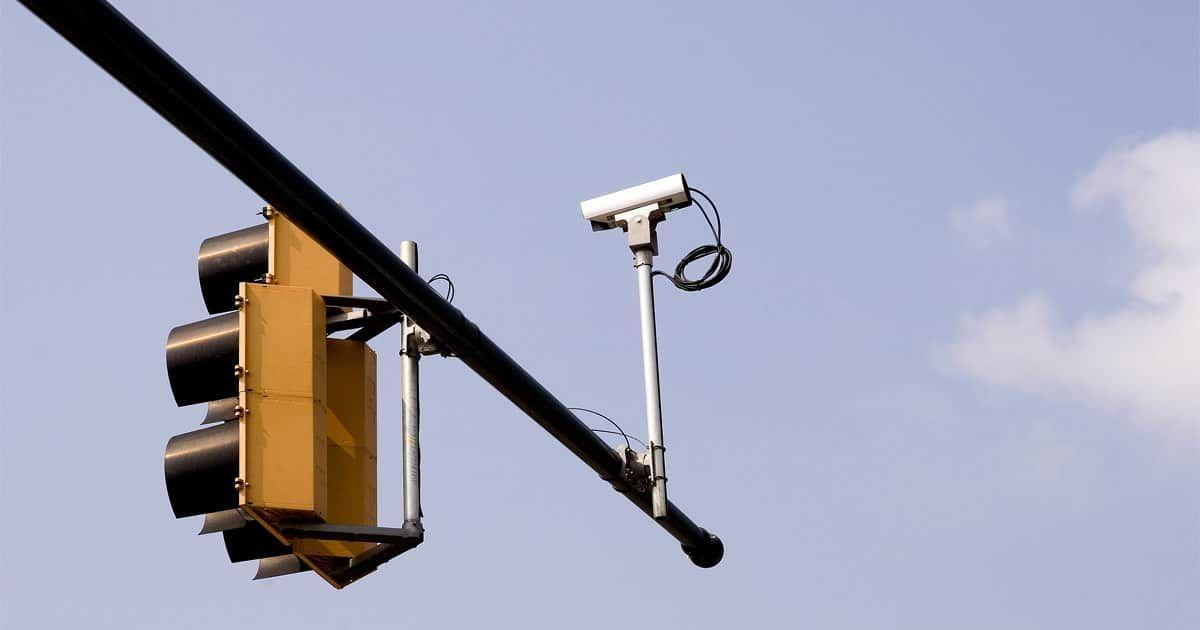Monitor: (563, 157, 715, 248)
